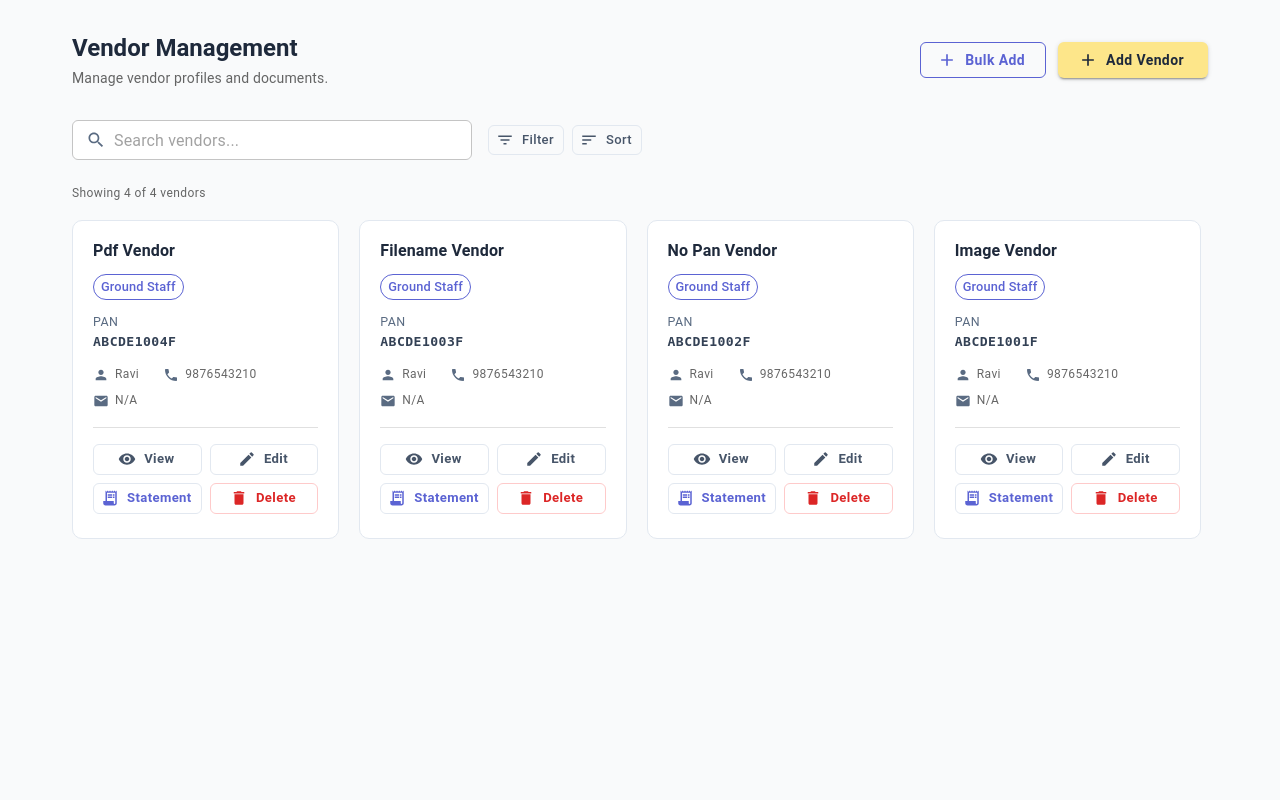
Test: detail view › a PDF shows the same 30-character label as today, with no fetch
Click the button "View" below "ABCDE1004F".
click(147, 459)  # box [93,444,202,475]
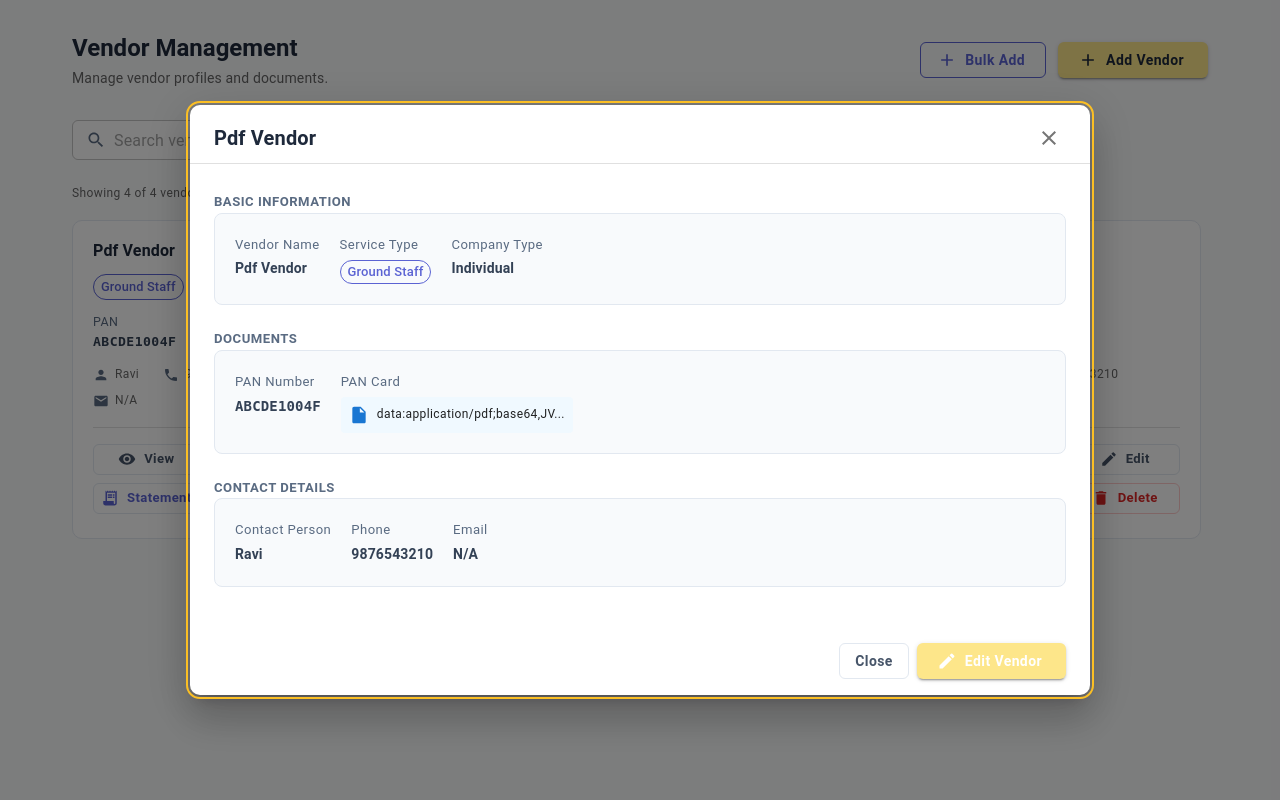
Expected: the text "data:application/pdf;base64,JV..." is shown, [377,405,565,425]
